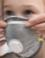with_mask: (2, 1, 45, 58)
